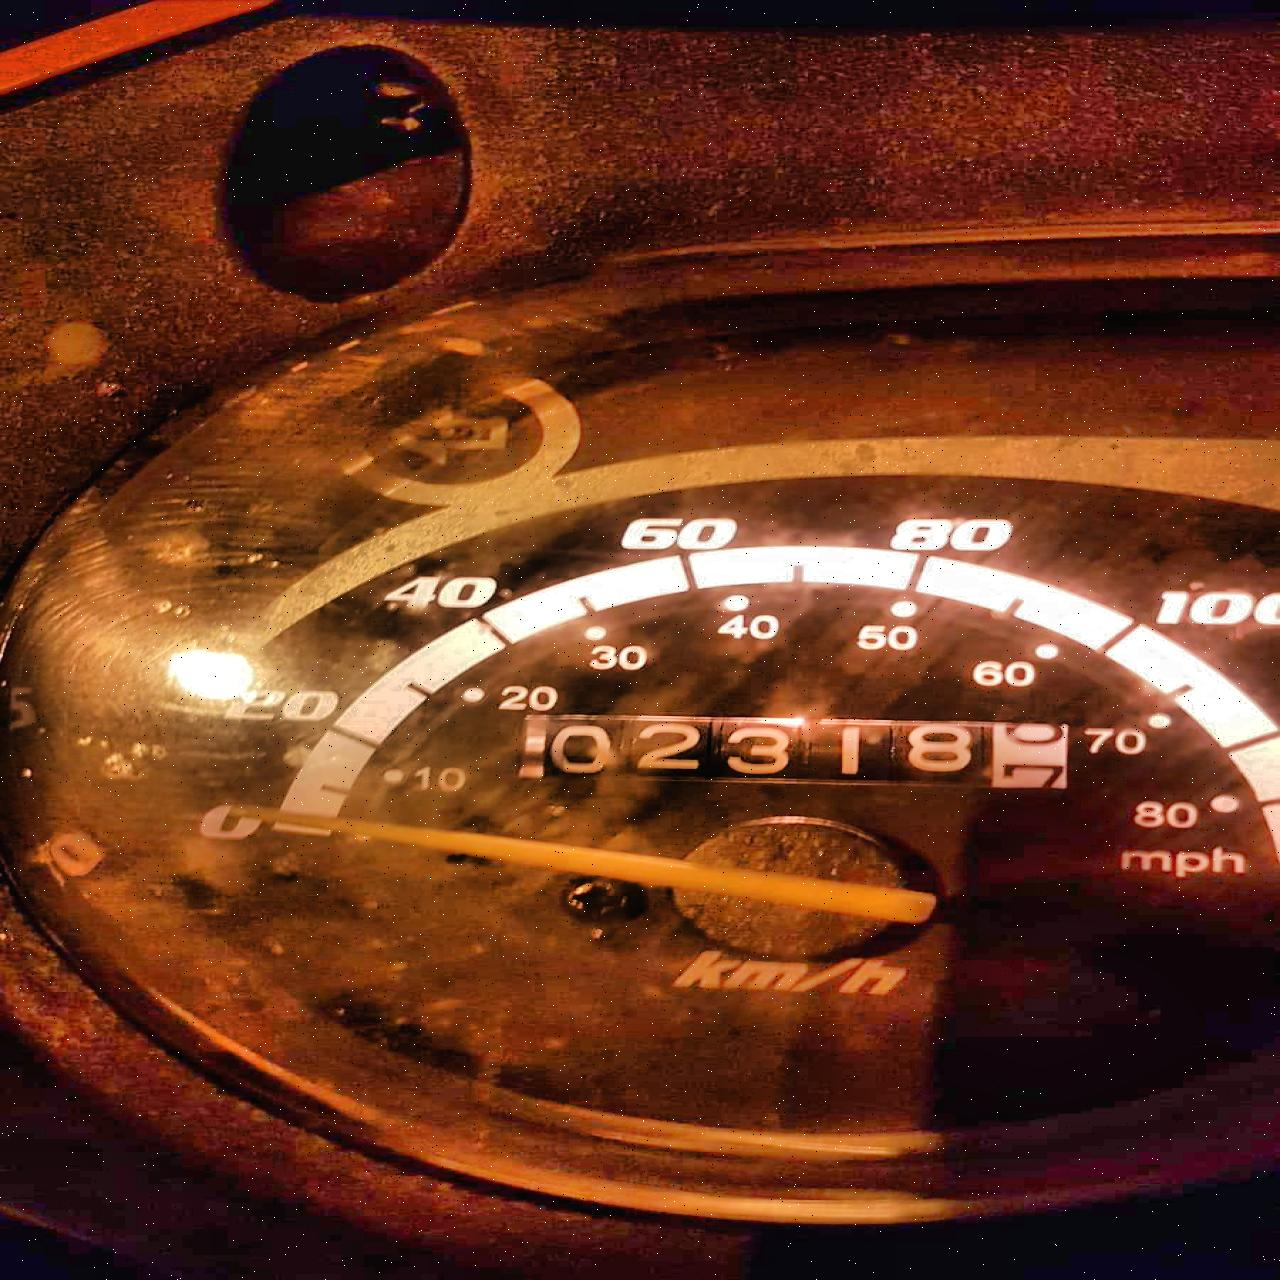0: (547, 722, 615, 774)
1: (832, 723, 872, 779)
2: (633, 720, 700, 774)
3: (724, 724, 795, 775)
7: (995, 753, 1073, 792)
8: (901, 720, 974, 775)
odometer: (506, 712, 1091, 797)
